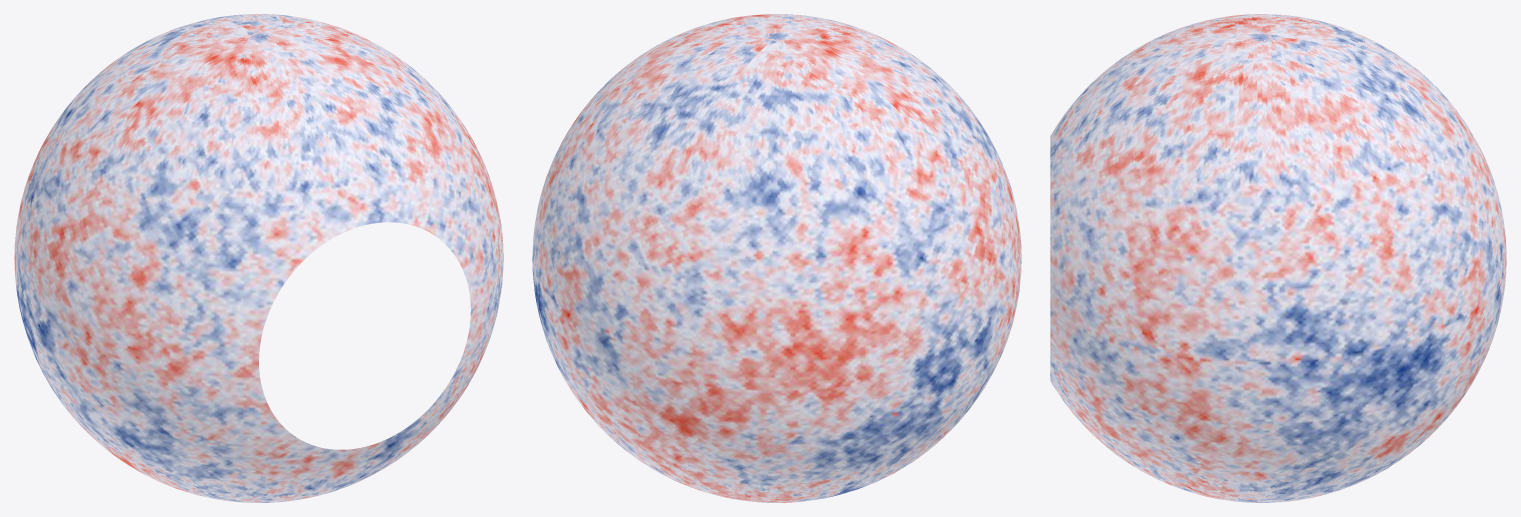
The model's file is observable-universe-wmap.glb.
3 views of the same model, side by side, from view 1: azimuth 30°, elevation 25°; view 2: azimuth 150°, elevation 25°; view 3: azimuth 270°, elevation 25° (orthographic).
Parts seen in each view (by area): view 1: WMAP ILC temperature on approximate last-scattering sphere; view 2: WMAP ILC temperature on approximate last-scattering sphere; view 3: WMAP ILC temperature on approximate last-scattering sphere.
Part boxes in pixels (x1=…): WMAP ILC temperature on approximate last-scattering sphere: x1=14, y1=14, x2=503, y2=502; WMAP ILC temperature on approximate last-scattering sphere: x1=532, y1=14, x2=1021, y2=502; WMAP ILC temperature on approximate last-scattering sphere: x1=1050, y1=14, x2=1506, y2=502.
Bounding box in the file's own units: 9.12e+10 × 9.12e+10 × 8.51e+10.
1 material, 1 textured.
